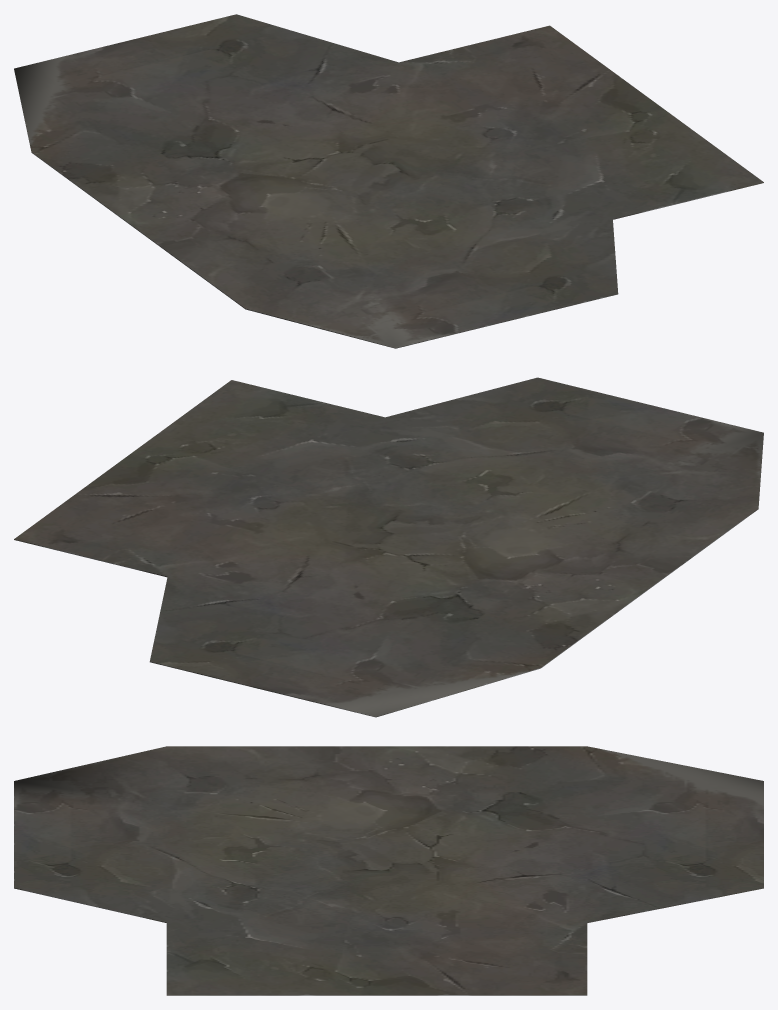
The model's file is FLOOR_CANTEEN.obj.
The picture shows the model from 3 angles, top to bottom: view 1: azimuth 30°, elevation 25°; view 2: azimuth 150°, elevation 25°; view 3: azimuth 270°, elevation 25°; orthographic projection. The views are drawn at different scales.
Visible parts, largest first — view 1: Floor_Untextured:pCube580; view 2: Floor_Untextured:pCube580; view 3: Floor_Untextured:pCube580.
Part boxes in pixels (left/top/right/bottom): Floor_Untextured:pCube580: left=14, top=14, right=763, bottom=348; Floor_Untextured:pCube580: left=14, top=377, right=763, bottom=717; Floor_Untextured:pCube580: left=14, top=746, right=763, bottom=995.
Bounding box in the file's own units: 69.9 × 0.1 × 89.15.
